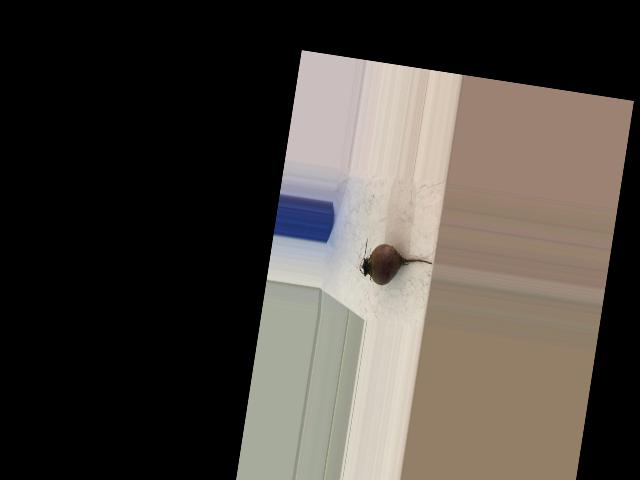beet: (357, 237, 434, 291)
